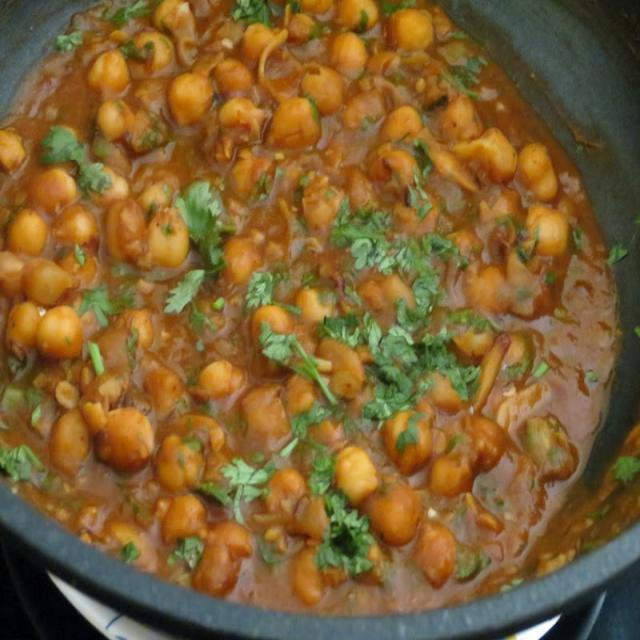Chole: (0, 0, 617, 615)
